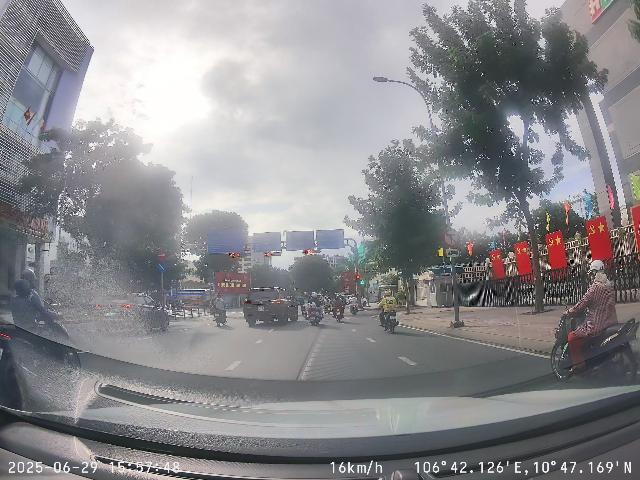137-cam-re-trai-va-re-phai: (442, 229, 460, 247)
